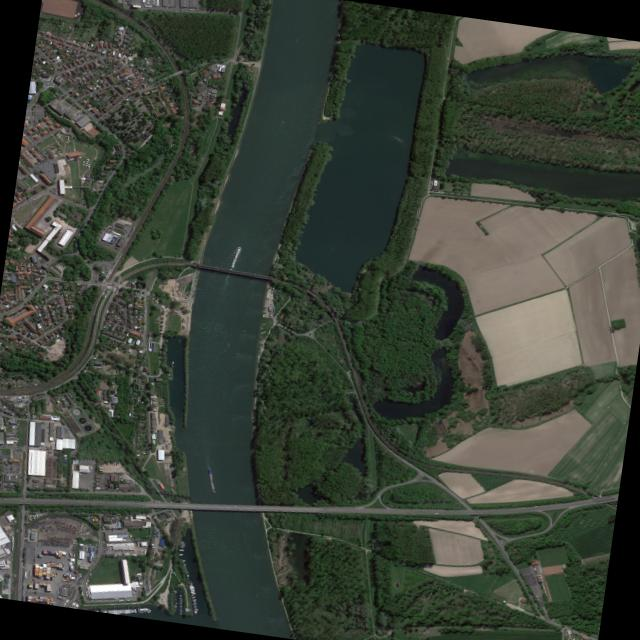ship: (207, 468, 217, 494), (231, 248, 241, 268), (148, 610, 152, 612), (132, 610, 134, 613), (147, 612, 151, 613)
